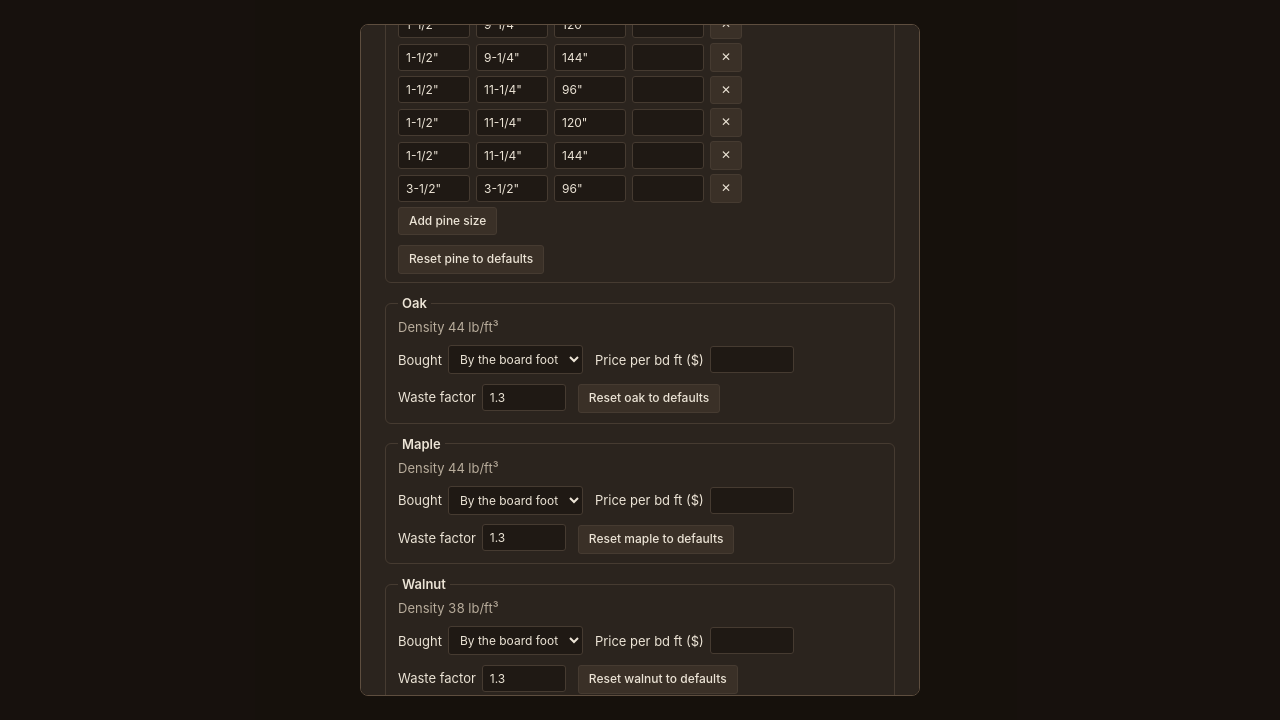
Test: MaterialsDialog — prices › refuses invalid input rather than clamping: Save is disabled while any field is bad
(page scrolled)
Type "-1" into the field named "Oak: price per board foot" at [752, 360], box 710,346 -> 794,373
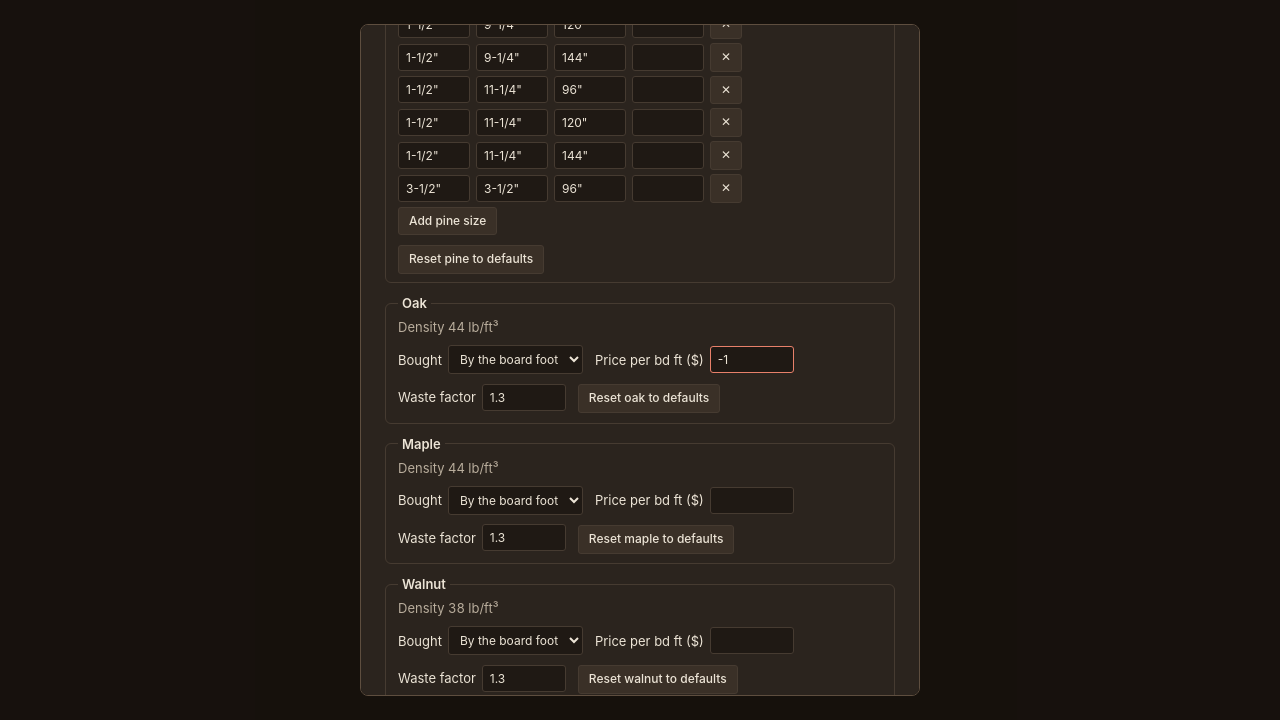
Replace the text in the field named "Oak: price per board foot" with "abc" at [752, 360], box 710,346 -> 794,373
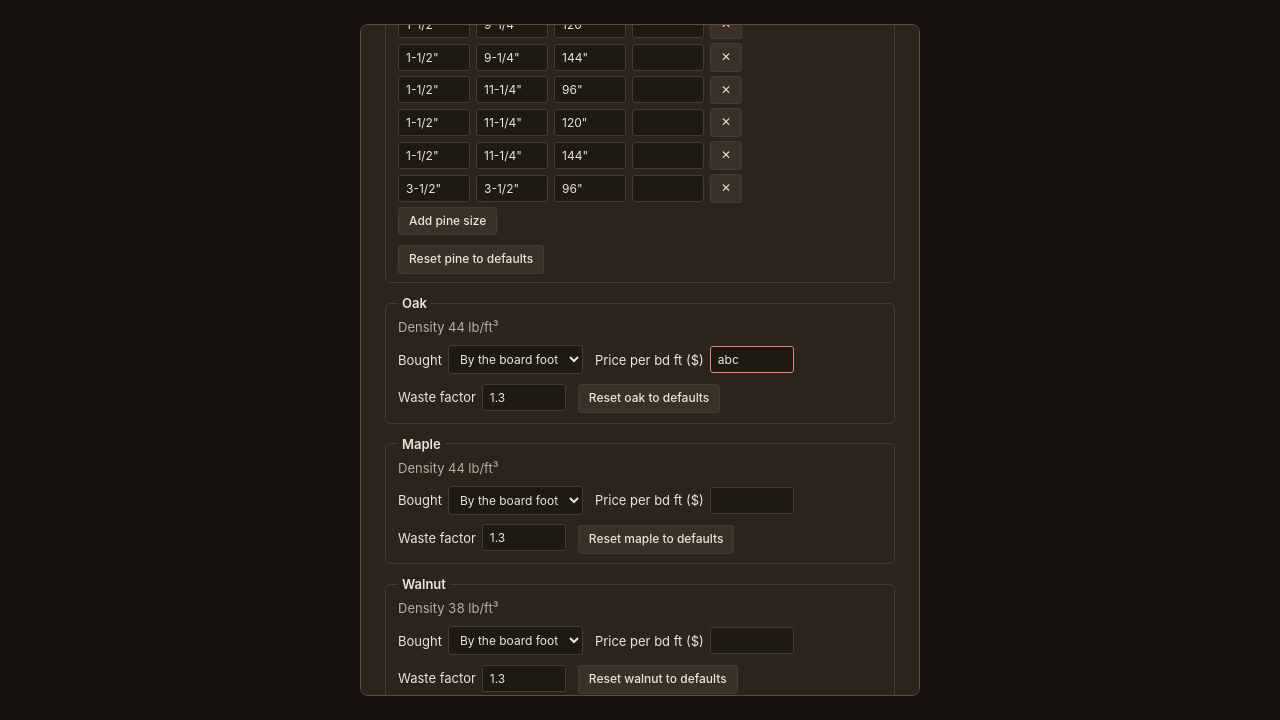
Expected: the field named "Oak: price per board foot" is marked as invalid
Clear the field named "Oak: price per board foot" at [752, 360], box 710,346 -> 794,373
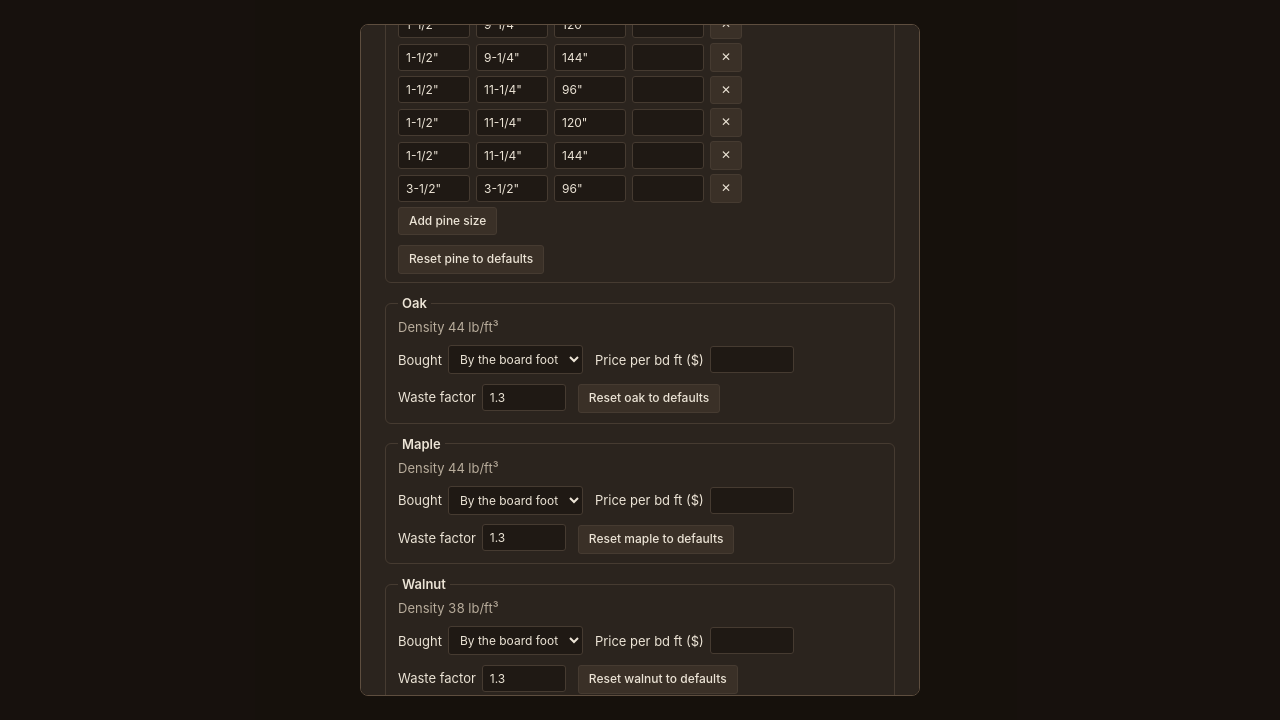
Replace the text in the field named "Oak: waste factor" with "3.5" at [524, 397], box 482,384 -> 566,411
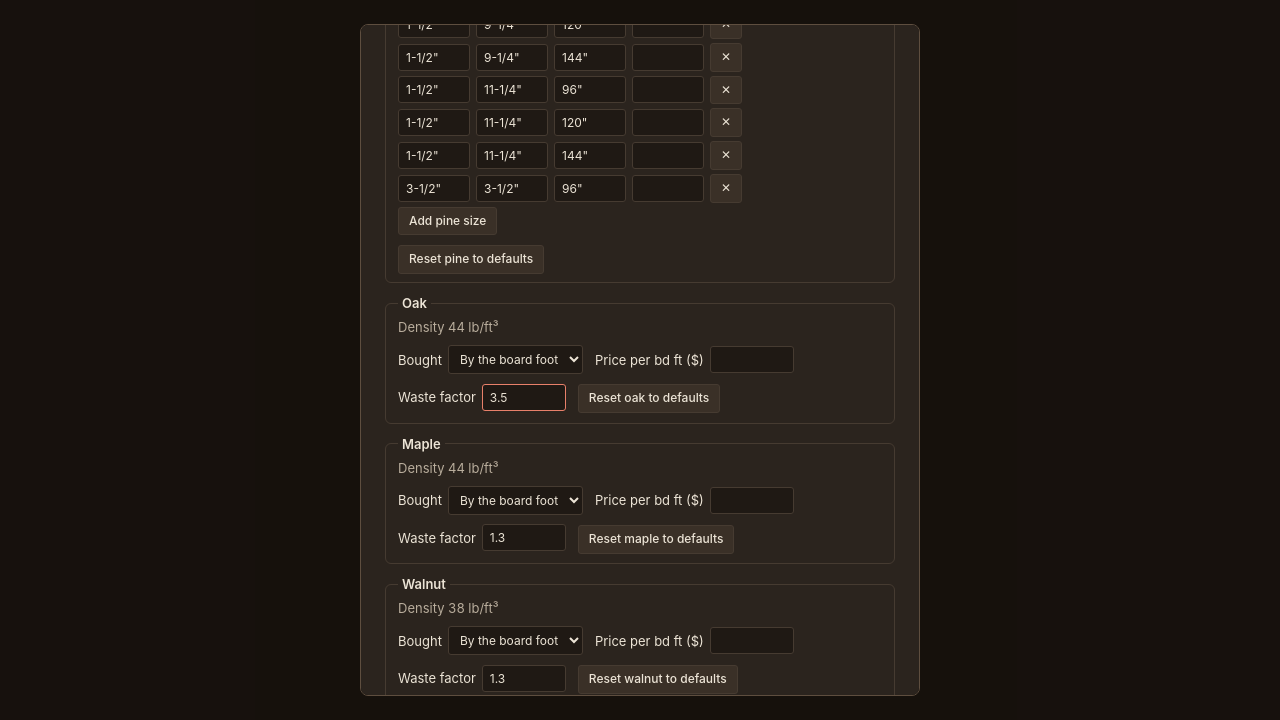
Replace the text in the field named "Oak: waste factor" with "3" at [524, 397], box 482,384 -> 566,411
(page scrolled)
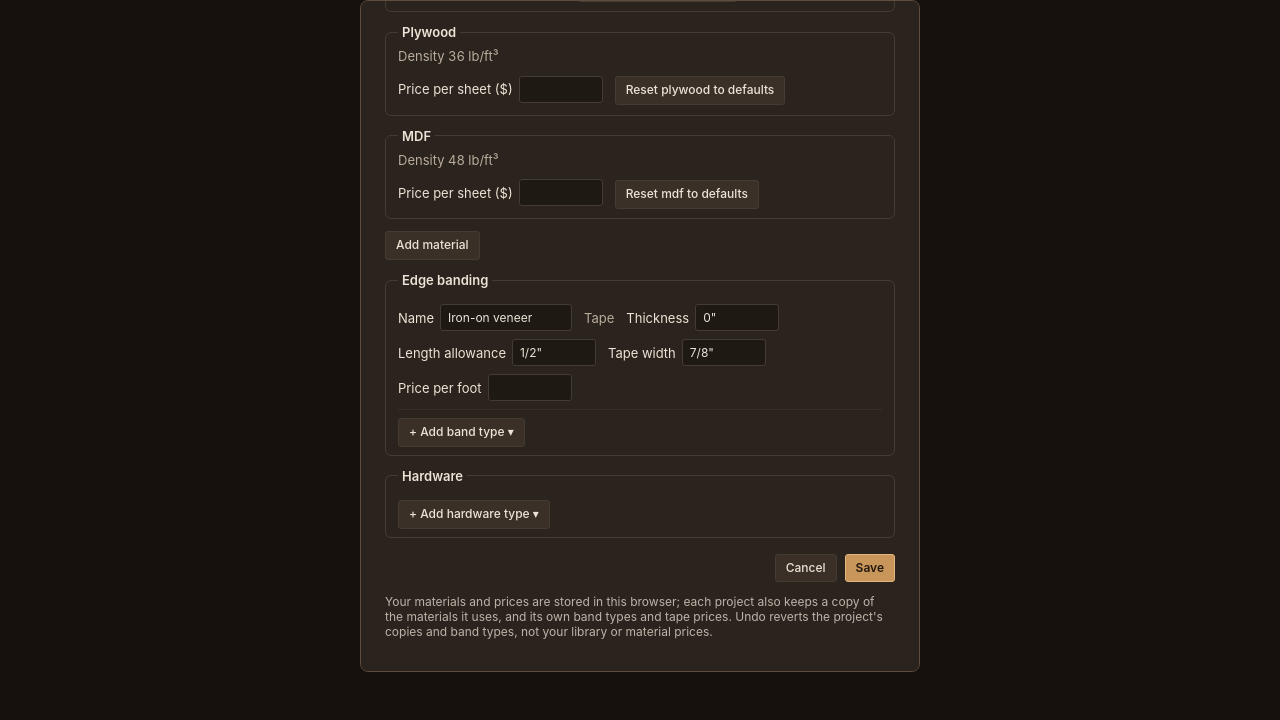
Expected: the button "Save" is enabled, 845,554 -> 895,582
